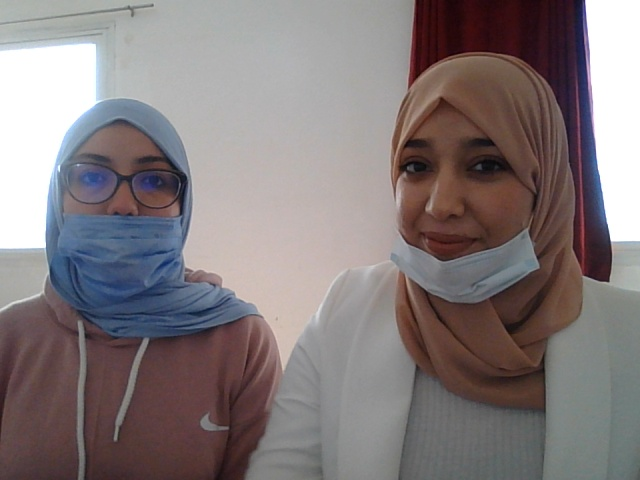mask_weared_incorrect: (376, 63, 551, 305), (48, 94, 216, 300)
